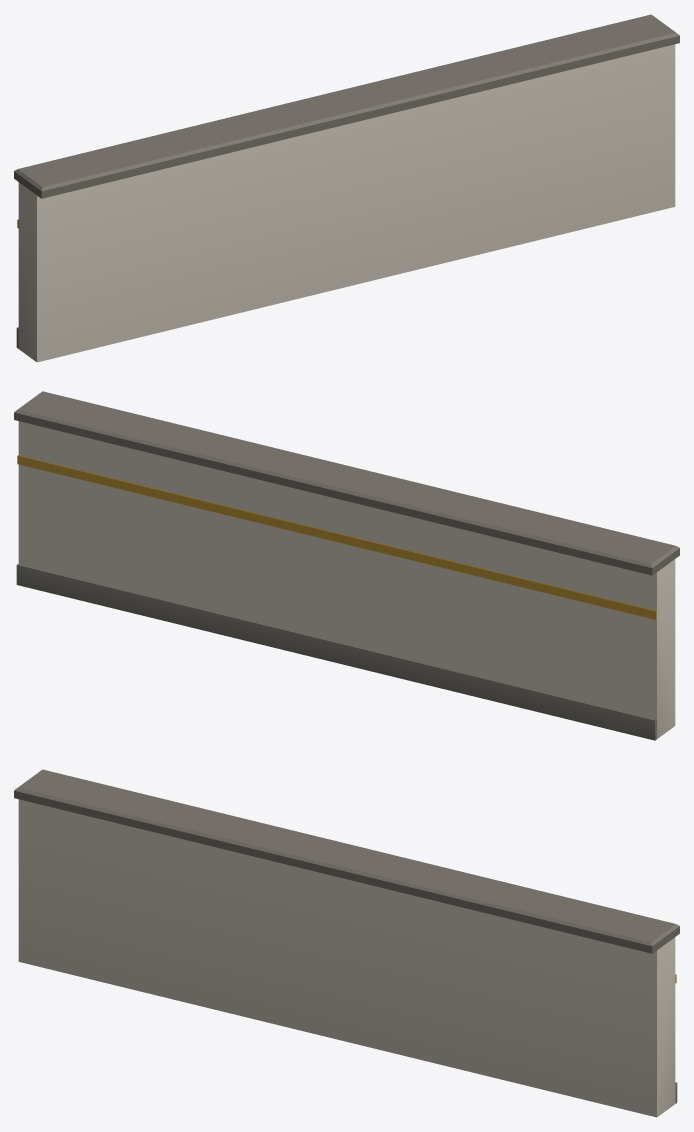
Rendered from roof_parapet_01.glb.
3 views of the same model, one above another, from view 1: azimuth 30°, elevation 25°; view 2: azimuth 150°, elevation 25°; view 3: azimuth 330°, elevation 25° (orthographic).
Visible parts, largest first — view 1: roof_parapet_01_mesh; view 2: roof_parapet_01_mesh; view 3: roof_parapet_01_mesh.
Boxes of the visible parts, left/top/right/bottom form: roof_parapet_01_mesh: left=14, top=14, right=679, bottom=362; roof_parapet_01_mesh: left=14, top=391, right=679, bottom=740; roof_parapet_01_mesh: left=14, top=769, right=679, bottom=1117.
Size of the model in its own units: 4 by 1.06 by 0.2998.
Materials: 1 (1 with a texture image).
